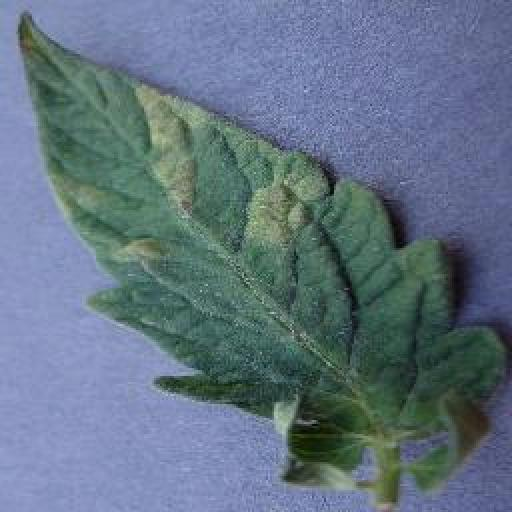disease_tomato: (16, 10, 510, 492)
